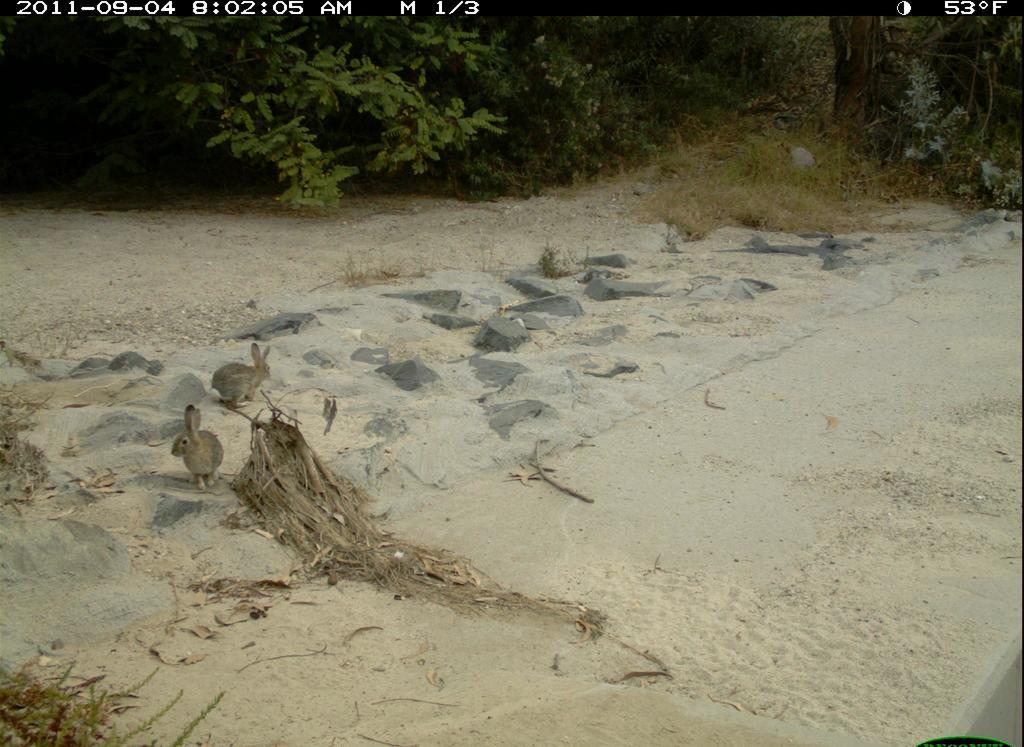rabbit: (144, 390, 237, 489), (214, 344, 277, 408)
